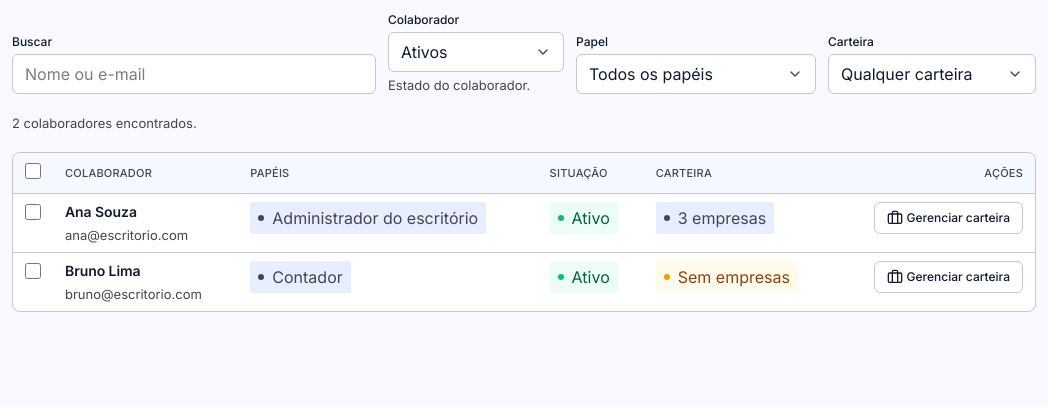
Scenario: CentralDeCarteiras › seleção habilita as operações em lote e nomeia quantos foram escolhidos
Click the checkbox named "Selecionar Ana Souza" at point(33, 212), box [25,204,41,220]
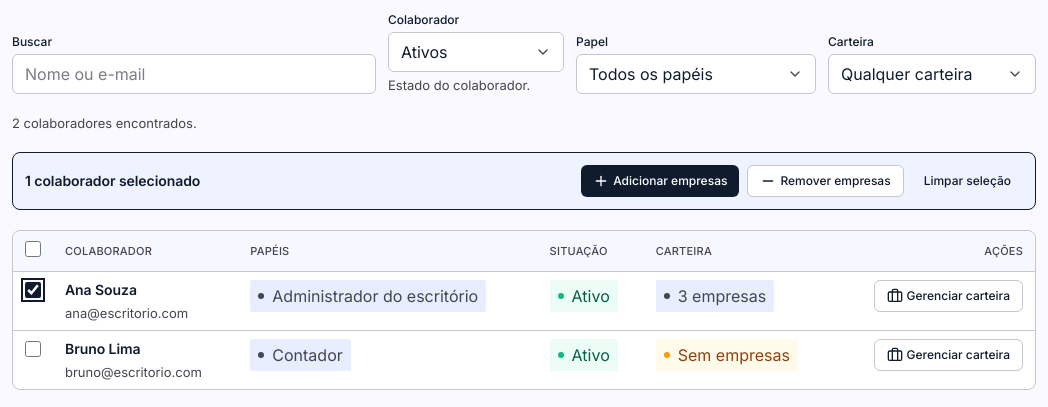
Click the checkbox named "Selecionar Bruno Lima" at point(33, 349), box [25,341,41,357]
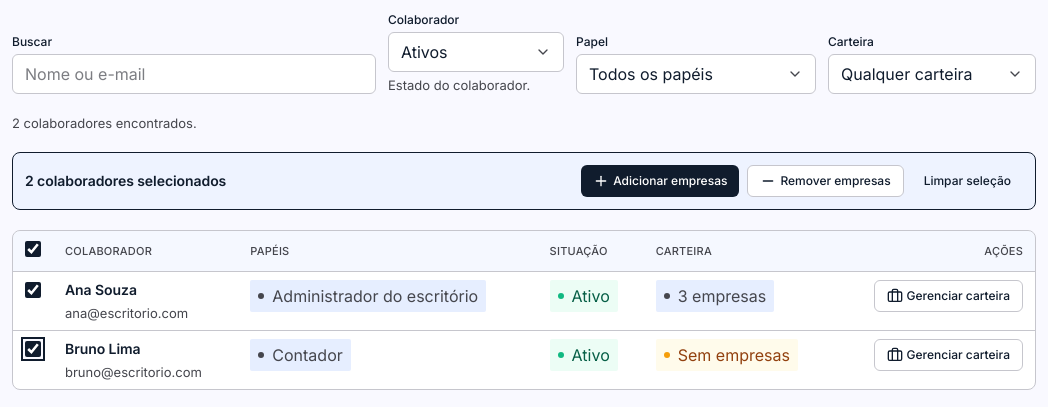
Expected: the button "Adicionar empresas" is enabled, [581,165,740,197]
Expected: the button "Remover empresas" is enabled, [747,165,904,197]
Expected: the text "2 colaboradores selecionados" is shown, [25,171,226,191]
